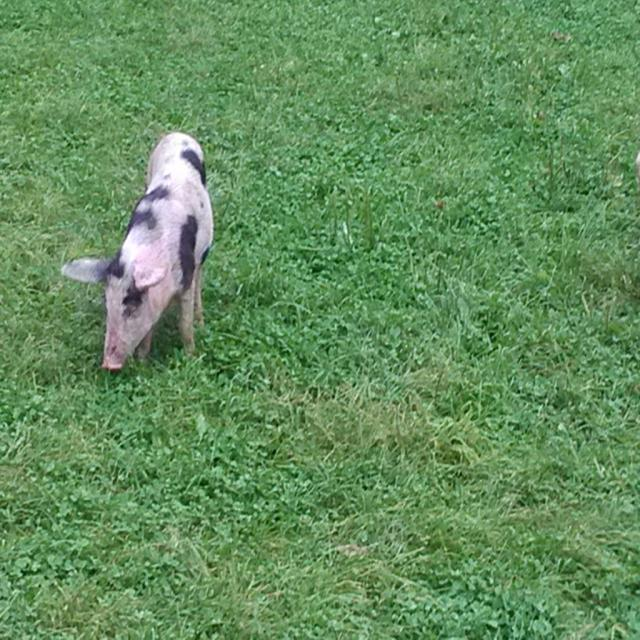Pig: (62, 131, 214, 371)
